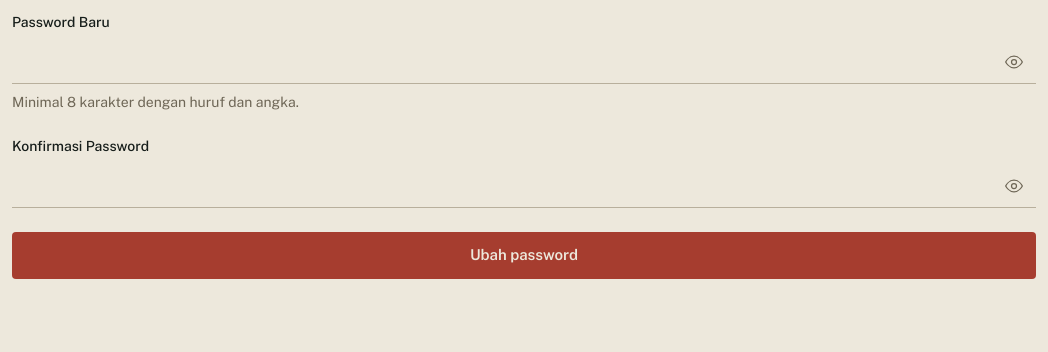
Test: ResetForm › shows validation errors on empty submit
This screenshot has width=1048, height=352.
Click the button "Ubah password". click: (524, 255)
box: [12,232,1036,278]
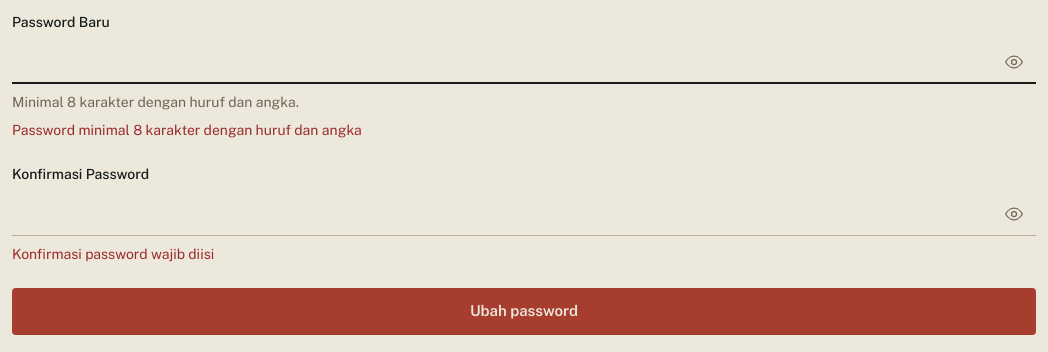
Result: the text "Password minimal 8 karakter dengan huruf dan angka" is shown at [12,122,362,138]
Result: the text "Konfirmasi password wajib diisi" is shown at [12,246,214,262]
